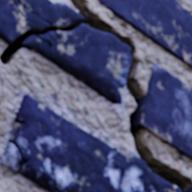brick: (97, 0, 191, 67), (138, 62, 191, 158)
broken_brick: (8, 94, 180, 191), (22, 24, 130, 103), (15, 0, 82, 30), (0, 0, 30, 44), (0, 142, 22, 170)
crack: (0, 0, 191, 191), (7, 139, 29, 171), (14, 119, 25, 122)
